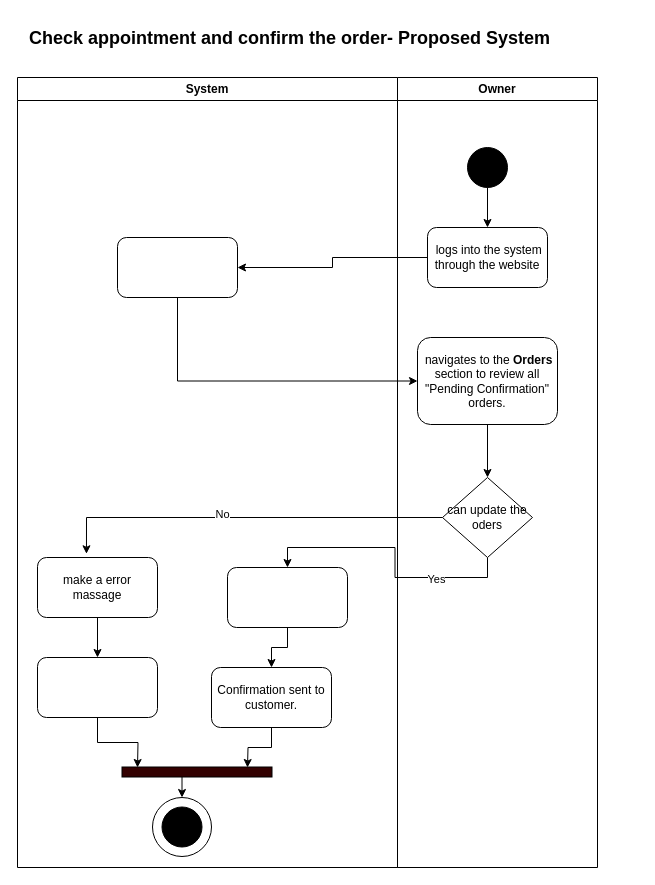
The diagram is 655 pixels wide and 885 high, and some of its shapes have lost their labels. Here are the shapes that lost their labels. From the top down, the centre of each, then its label:
pixel 177 267: Load the page
pixel 287 597: updates the order
pixel 97 687: A confirmation of invalidity is sent to the customer.
